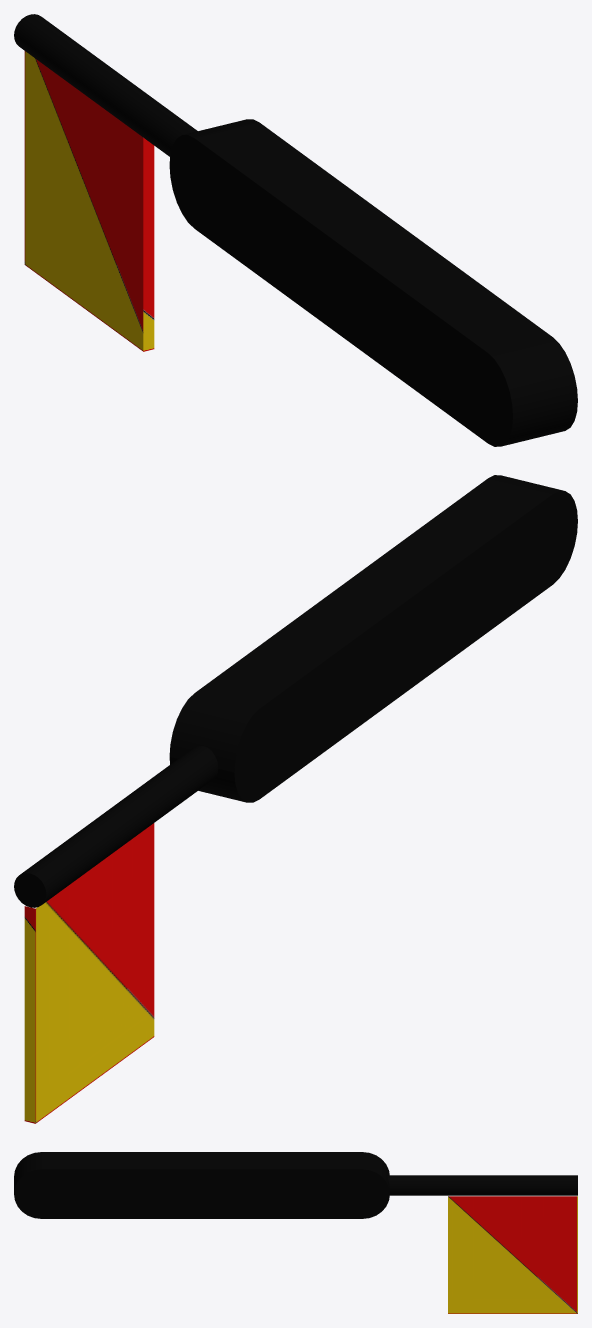
Rendered from semaphore_flag_man_arm.dae.
The picture shows the model from 3 angles, top to bottom: view 1: azimuth 30°, elevation 25°; view 2: azimuth 150°, elevation 25°; view 3: azimuth 270°, elevation 25°; orthographic projection. The views are drawn at different scales.
Visible parts, largest first — view 1: SketchUp (×3); view 2: SketchUp (×3); view 3: SketchUp (×4).
Boxes of the visible parts, x1,y1,x2,y2 form: SketchUp (×3): (14,14,577,446); SketchUp (×3): (14,475,577,1123); SketchUp (×4): (14,1152,577,1313).
Bounding box in the file's own units: 0.75 × 10.31 × 3.06.
